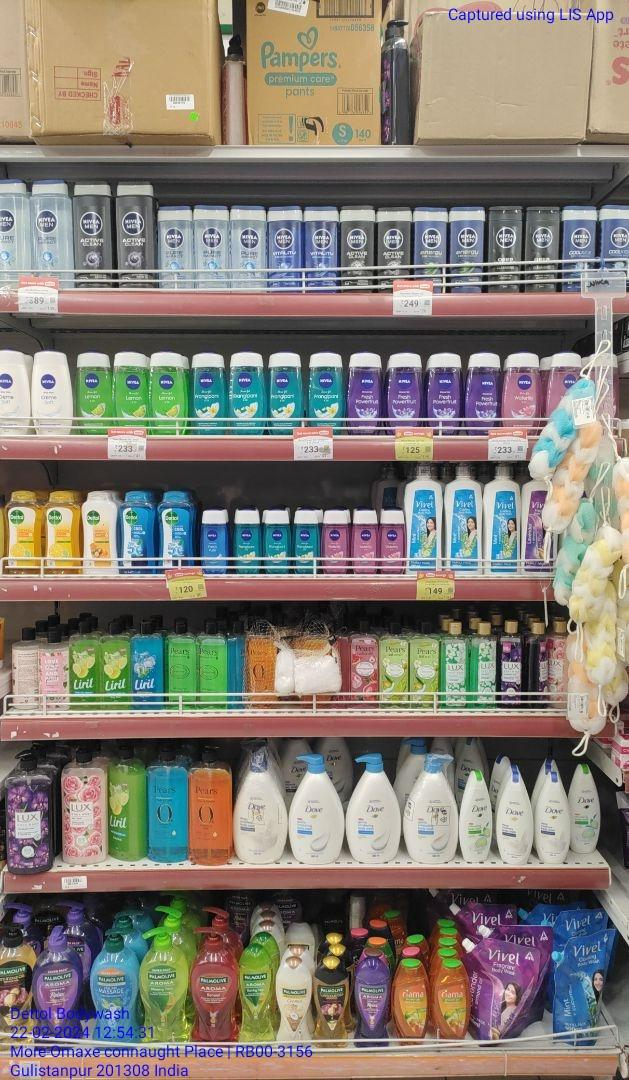Dettol_Bodywash_Cool: (159, 487, 195, 569), (123, 491, 157, 575)
Dettol_Bodywash_Refresh: (44, 489, 82, 572), (8, 488, 42, 573)
Dettol_Nourish_Body_Wash_250ML: (83, 490, 121, 576)
Dove_Deep_Moisture_Body_Wash_250ML: (496, 769, 533, 866), (537, 771, 569, 865)
Dove_Refreshing_Body_Wash_250ML: (570, 762, 600, 854), (462, 770, 491, 864)
Fiama_Shower_Gel_Peach_and_Avocado_250ML: (393, 958, 428, 1046), (431, 959, 468, 1042)
Liril_Cooling_Mint_Body_Wash_250ML: (131, 616, 164, 707)
Liril_Lime_and_Tea_Tree_Oil_Body_Wash_250ML: (69, 618, 100, 710), (103, 619, 130, 704)
Lux_Black_Orchid_Scent_and_Juniper_Oil_Body_Wash_245ML: (497, 618, 526, 704), (529, 620, 550, 709)
Lux_Body_Wash_Skin_Detox_Freesia_Scent_and_Alove_Vera_245ML: (442, 622, 469, 709), (471, 620, 495, 708)
Nivea_Creme_Soft_Body_Wash_250ML: (32, 347, 74, 435), (0, 348, 30, 436)
Nivea_Shower_Gel_Frangipani_and_Oil_250ML: (190, 353, 228, 435), (230, 352, 266, 436), (309, 351, 345, 434), (269, 354, 304, 435)
Nivea_Shower_Gel_Fresh_Powerfruit_250ML: (464, 351, 500, 436), (387, 353, 425, 431), (429, 351, 460, 437), (349, 353, 380, 435)
Nivea_Shower_Gel_Lemon_and_Oil_250ML: (78, 350, 112, 434), (152, 352, 186, 434), (114, 351, 148, 427)
Nivea_Shower_Gel_Waterlily_and_Oil_250ML: (504, 353, 541, 433)
Palmolive_Aroma_Morning_Tonic_Shower_Gel_250ML: (239, 945, 274, 1040)
Palmolive_Aroma_Relax_250ML: (354, 959, 391, 1050)
Palmolive_Coconut_Joy_Exfoliating_Body_Wash_250ML: (275, 953, 312, 1045)
Palmolive_Luminous_Oils_Invigorating_Macadamia_Oil_With_Peony_250ML: (313, 958, 349, 1050)
Pears_Naturale_Aloe_Vera_Body_Wash_250ML: (410, 619, 441, 710), (378, 621, 408, 712)
Pears_Pure_Glycerin_and_Lemon_Flower_Extracts_Body_Wash_250ML: (167, 615, 198, 708), (199, 619, 228, 710)
